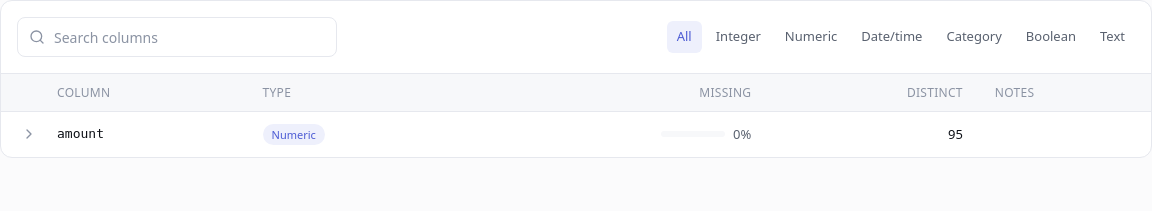
Test: DatasetColumnsPage › says so when nothing matches instead of showing an empty table
Expected: the text "amount" is shown, [41,112,246,157]
Type "zzz" into the field labelled "Search columns". click: [177, 37]
box: [17,17,337,57]
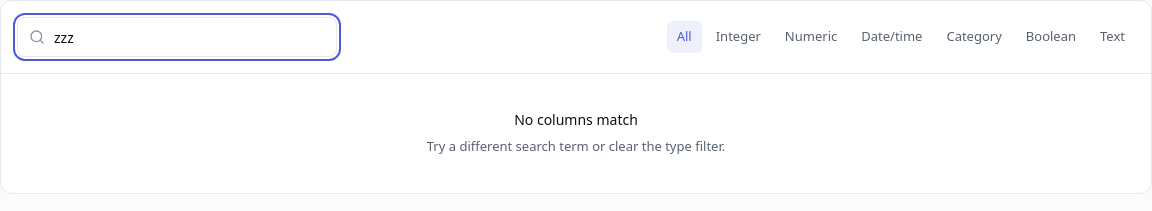
Expected: the text "No columns match" is shown, [514,110,638,130]
